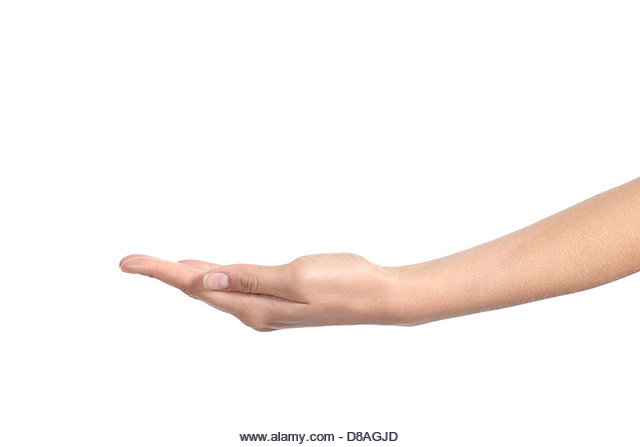hand: (72, 214, 457, 376)
